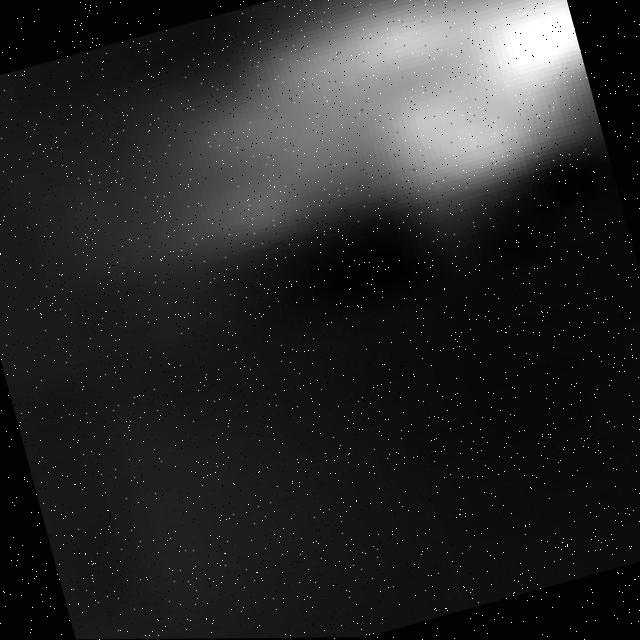person: (54, 1, 619, 331)
